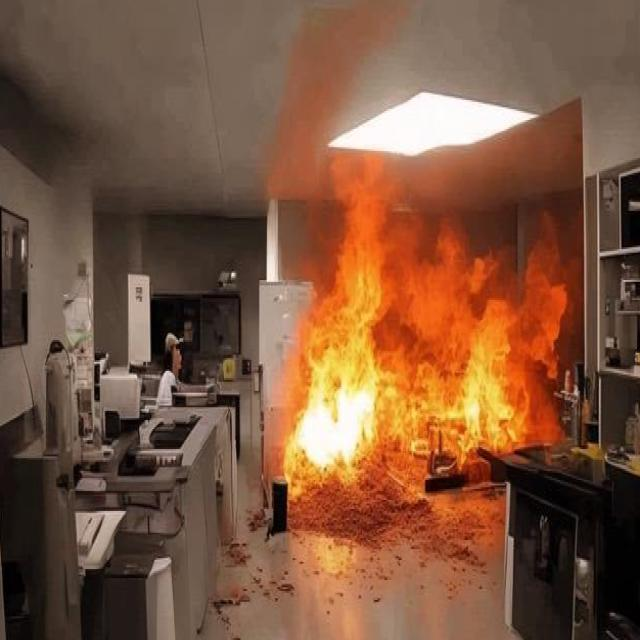smoke: (276, 150, 562, 516)
